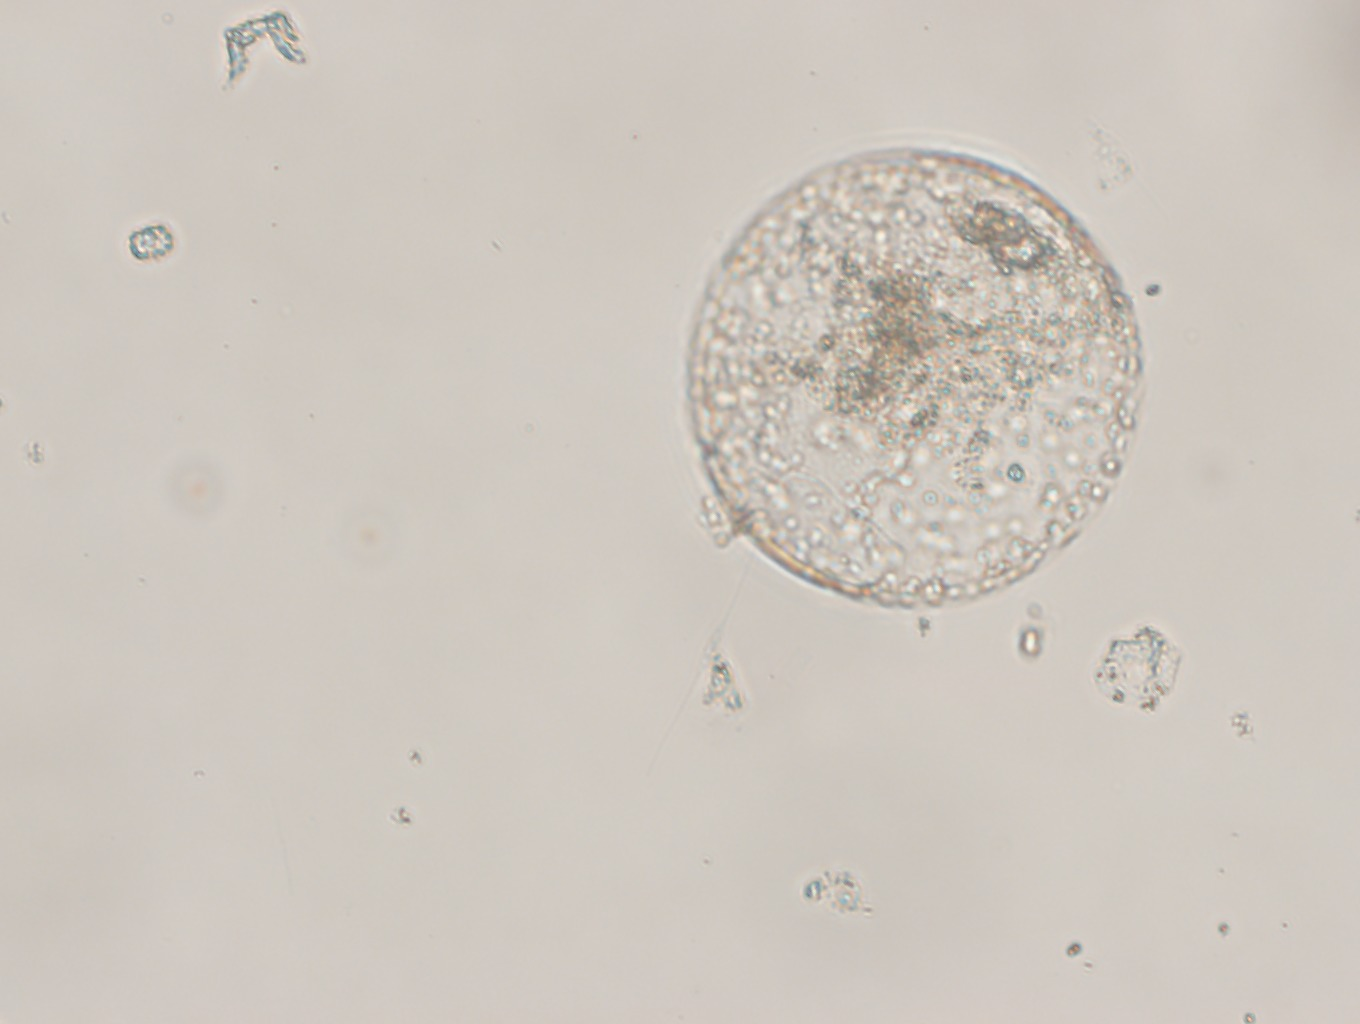coscinodiscus: (683, 139, 1153, 615)
